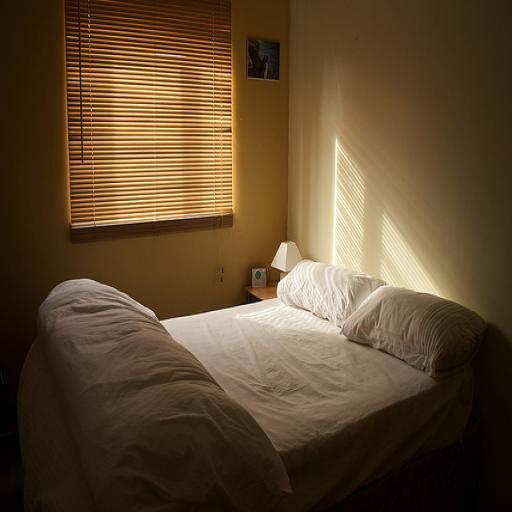bed: (26, 250, 512, 496)
